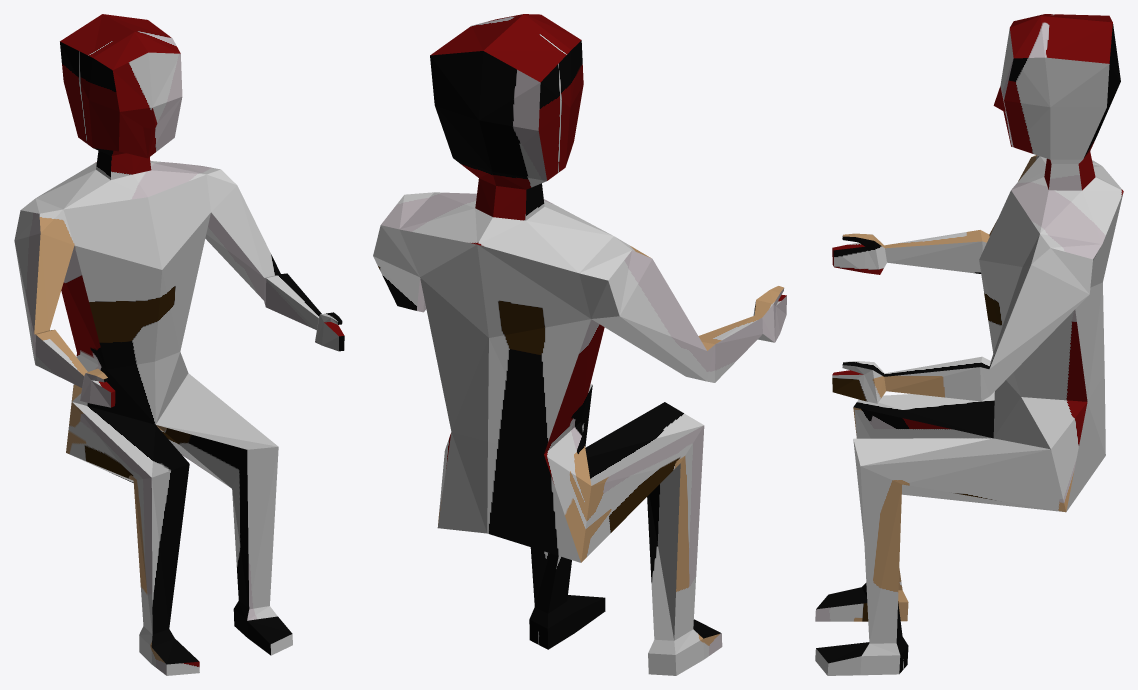
Rendered from client.obj.
3 views of the same model, side by side, from view 1: azimuth 30°, elevation 25°; view 2: azimuth 150°, elevation 25°; view 3: azimuth 270°, elevation 25° (orthographic). The views are drawn at different scales.
Visible parts, largest first — view 1: Cube; view 2: Cube; view 3: Cube.
Boxes of the visible parts, x1,y1,x2,y2 form: Cube: (14, 14, 344, 675); Cube: (373, 14, 786, 675); Cube: (815, 14, 1123, 675).
Size of the model in its own units: 0.6807 by 1.43 by 0.6376.
